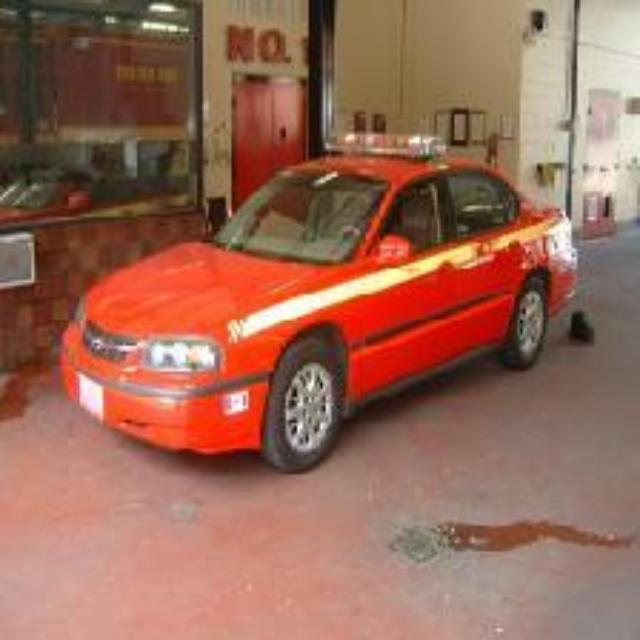emergency: (68, 129, 590, 457)
